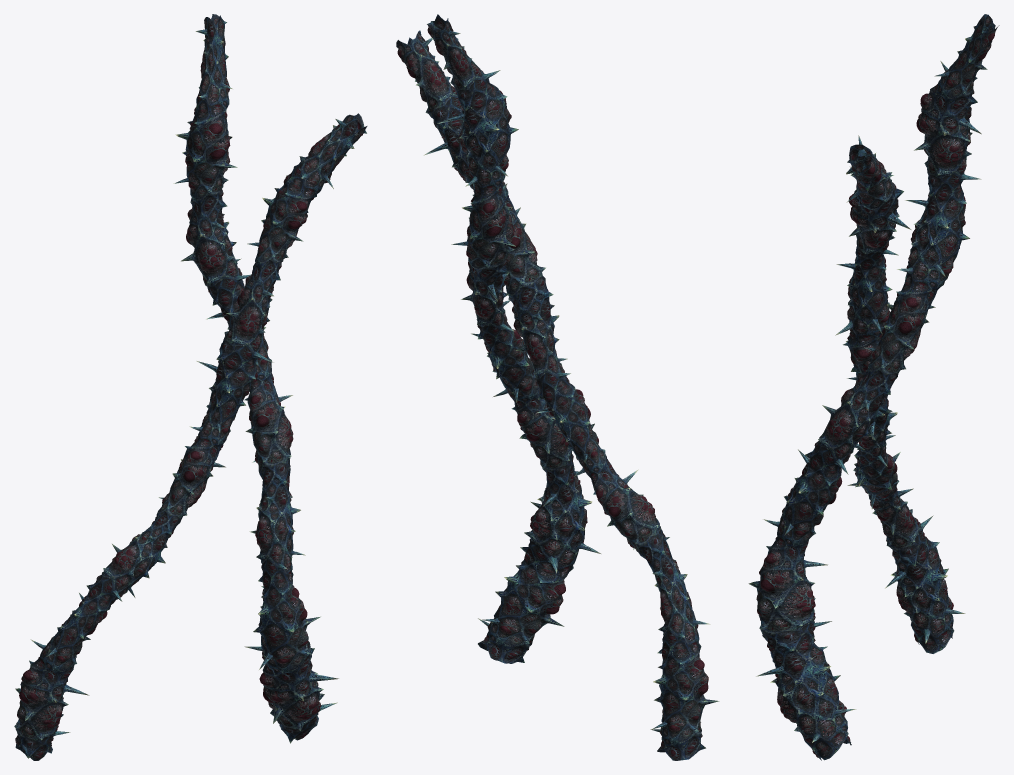
Rendered from backup.fbx.
The picture shows the model from 3 angles, left to right: view 1: azimuth 30°, elevation 25°; view 2: azimuth 150°, elevation 25°; view 3: azimuth 270°, elevation 25°; orthographic projection. The views are drawn at different scales.
Parts seen in each view (by area): view 1: LODGroup_1_MainMesh_1_SubMesh_1; view 2: LODGroup_1_MainMesh_1_SubMesh_1; view 3: LODGroup_1_MainMesh_1_SubMesh_1.
Boxes of the visible parts, bbox=[...] form: LODGroup_1_MainMesh_1_SubMesh_1: bbox=[14, 14, 367, 760]; LODGroup_1_MainMesh_1_SubMesh_1: bbox=[396, 14, 719, 760]; LODGroup_1_MainMesh_1_SubMesh_1: bbox=[748, 14, 999, 760].
Bounding box in the file's own units: 732 × 1460 × 451.
